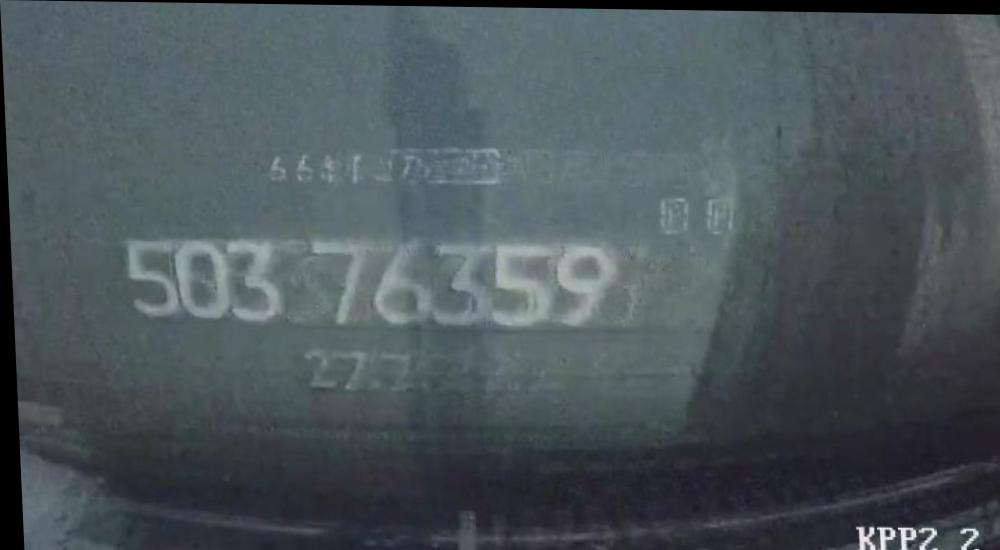Wagon-number: (113, 227, 626, 334)
